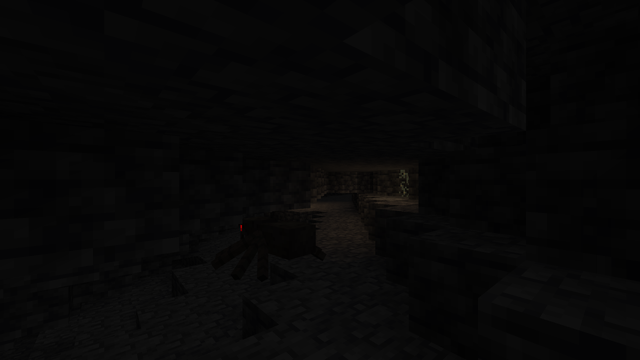araignees: (221, 210, 319, 281)
